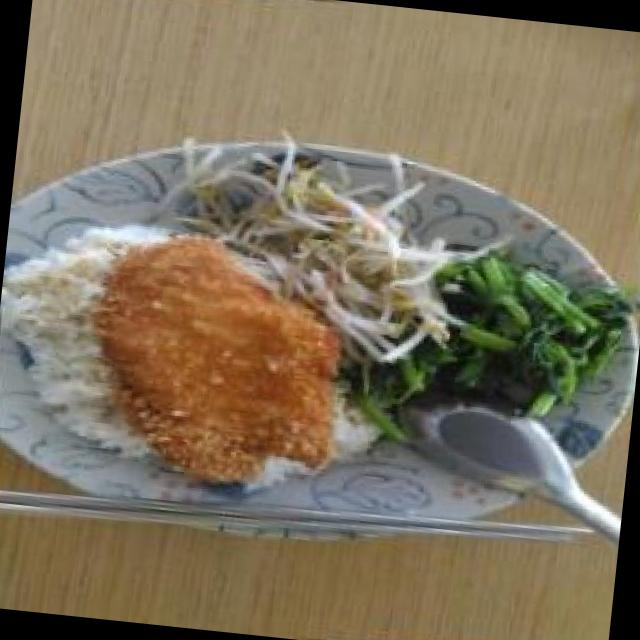fried_chicken: (100, 264, 343, 454)
mung_bean_sprouts: (243, 195, 442, 309)
rice: (12, 237, 120, 381)
water_spinach: (442, 249, 620, 420)
